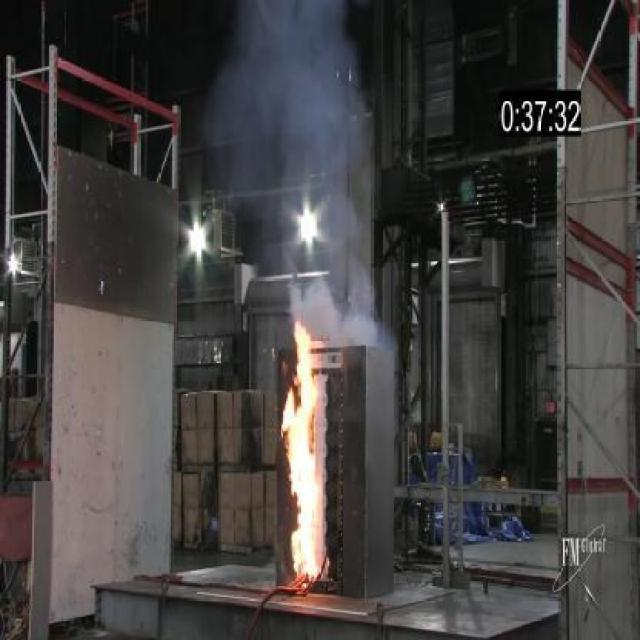fire: (197, 0, 374, 258)
smoke: (273, 310, 333, 587)
